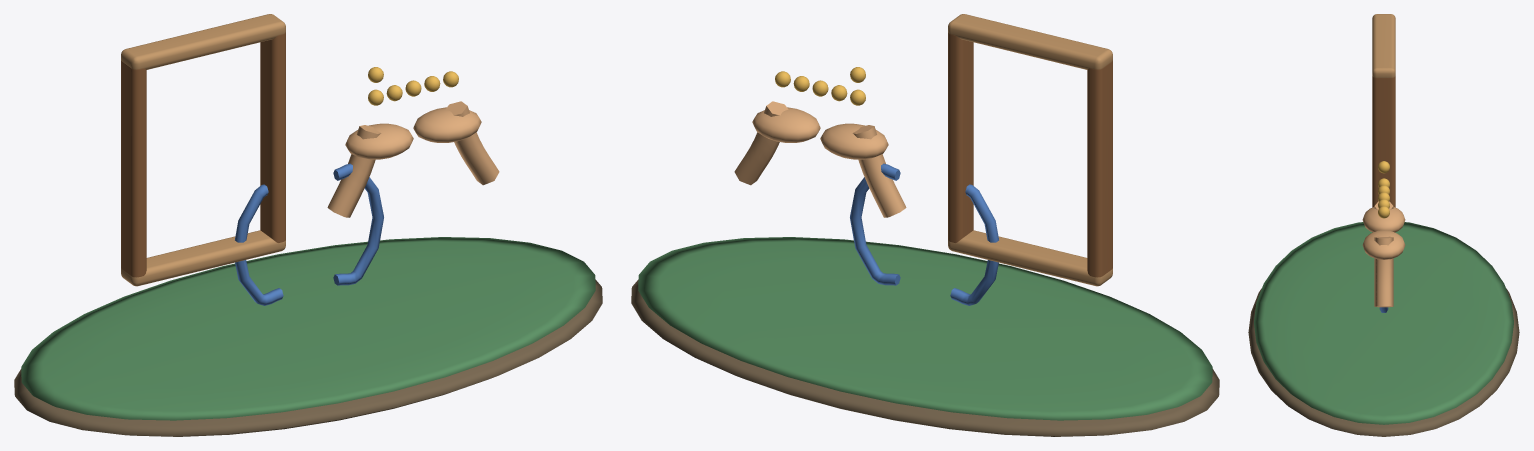
File: complete-second-place-has-all.glb
The picture shows the model from 3 angles, left to right: view 1: azimuth 30°, elevation 25°; view 2: azimuth 150°, elevation 25°; view 3: azimuth 270°, elevation 25°; orthographic projection. The views are drawn at different scales.
Parts seen in each view (by area): view 1: complete-second-place-has-all_surface_01, complete-second-place-has-all_surface_00, complete-second-place-has-all_surface_02, complete-second-place-has-all_surface_03, complete-second-place-has-all_surface_04, complete-second-place-has-all_surface_06, complete-second-place-has-all_surface_05; view 2: complete-second-place-has-all_surface_01, complete-second-place-has-all_surface_00, complete-second-place-has-all_surface_02, complete-second-place-has-all_surface_03, complete-second-place-has-all_surface_04, complete-second-place-has-all_surface_06, complete-second-place-has-all_surface_05; view 3: complete-second-place-has-all_surface_01, complete-second-place-has-all_surface_00, complete-second-place-has-all_surface_04, complete-second-place-has-all_surface_02, complete-second-place-has-all_surface_03, complete-second-place-has-all_surface_05.
Part boxes in pixels (x1,y1,x2,y2): complete-second-place-has-all_surface_01: [21, 237, 595, 420]; complete-second-place-has-all_surface_00: [14, 279, 602, 436]; complete-second-place-has-all_surface_02: [121, 32, 285, 277]; complete-second-place-has-all_surface_03: [121, 14, 285, 286]; complete-second-place-has-all_surface_04: [327, 101, 499, 217]; complete-second-place-has-all_surface_06: [235, 163, 383, 305]; complete-second-place-has-all_surface_05: [368, 67, 458, 105]; complete-second-place-has-all_surface_01: [638, 237, 1212, 420]; complete-second-place-has-all_surface_00: [631, 279, 1219, 436]; complete-second-place-has-all_surface_02: [948, 32, 1112, 277]; complete-second-place-has-all_surface_03: [948, 14, 1112, 286]; complete-second-place-has-all_surface_04: [734, 101, 906, 217]; complete-second-place-has-all_surface_06: [850, 163, 998, 305]; complete-second-place-has-all_surface_05: [775, 67, 865, 105]; complete-second-place-has-all_surface_01: [1254, 222, 1513, 424]; complete-second-place-has-all_surface_00: [1248, 288, 1519, 436]; complete-second-place-has-all_surface_04: [1362, 201, 1405, 307]; complete-second-place-has-all_surface_02: [1372, 76, 1395, 232]; complete-second-place-has-all_surface_03: [1372, 14, 1395, 77]; complete-second-place-has-all_surface_05: [1378, 161, 1389, 218].
Bounding box in the file's own units: 4.56 × 2.7 × 2.5.
